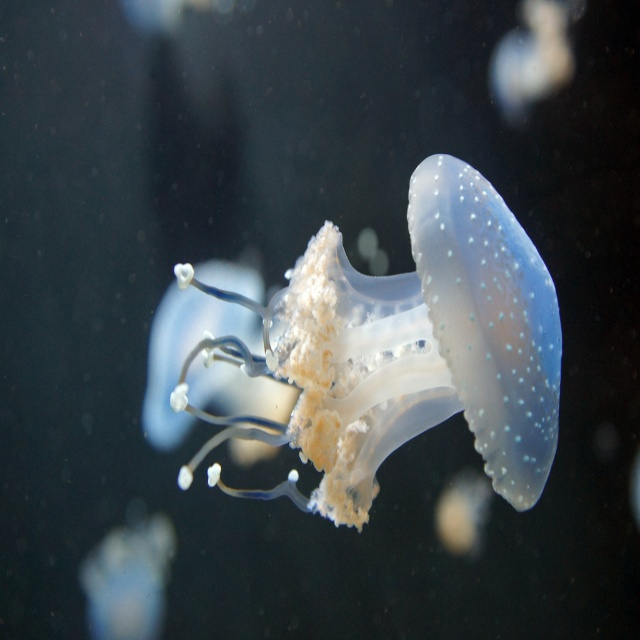Jellyfish: (134, 156, 576, 525)
